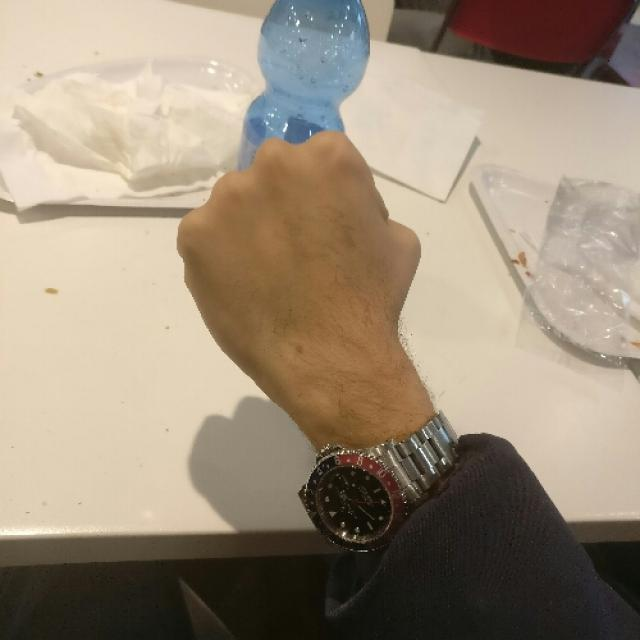fist: (169, 118, 430, 390)
